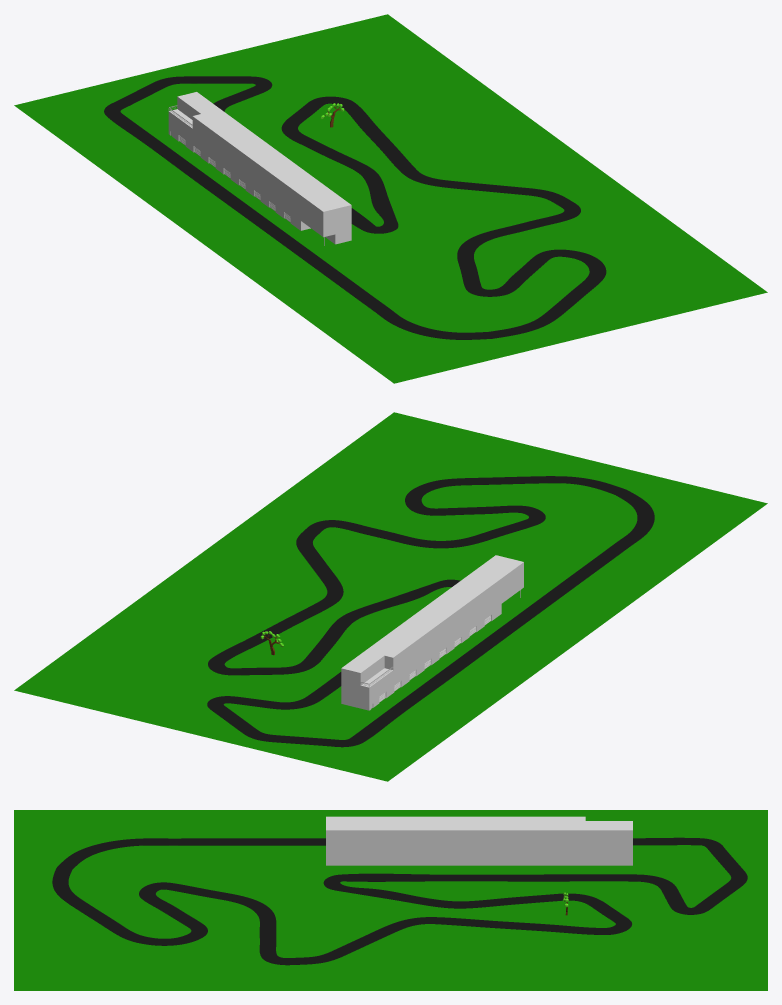
Rendered from track.gltf.
3 views of the same model, one above another, from view 1: azimuth 30°, elevation 25°; view 2: azimuth 150°, elevation 25°; view 3: azimuth 270°, elevation 25° (orthographic).
Parts seen in each view (by area): view 1: Ground, Algarve_International_Circuit_Portimão, Pit-Lane-Main; view 2: Ground, Algarve_International_Circuit_Portimão, Pit-Lane-Main; view 3: Ground, Algarve_International_Circuit_Portimão, Pit-Lane-Main.
Boxes of the visible parts, x1,y1,x2,y2 form: Ground: [14, 14, 767, 383]; Algarve_International_Circuit_Portimão: [104, 76, 606, 339]; Pit-Lane-Main: [168, 92, 351, 244]; Ground: [14, 412, 767, 781]; Algarve_International_Circuit_Portimão: [207, 476, 654, 747]; Pit-Lane-Main: [341, 555, 523, 710]; Ground: [14, 810, 767, 990]; Algarve_International_Circuit_Portimão: [52, 837, 747, 965]; Pit-Lane-Main: [326, 816, 632, 865].
Size of the model in its own units: 345 by 34.73 by 607.
7 materials, 2 textured.
